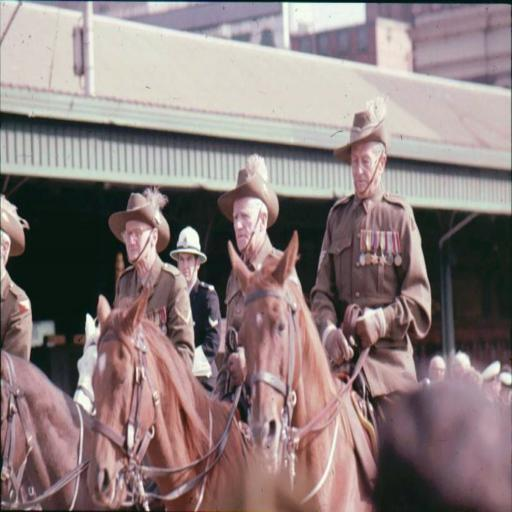horse: (227, 229, 379, 511), (86, 284, 258, 512), (0, 348, 166, 511)
